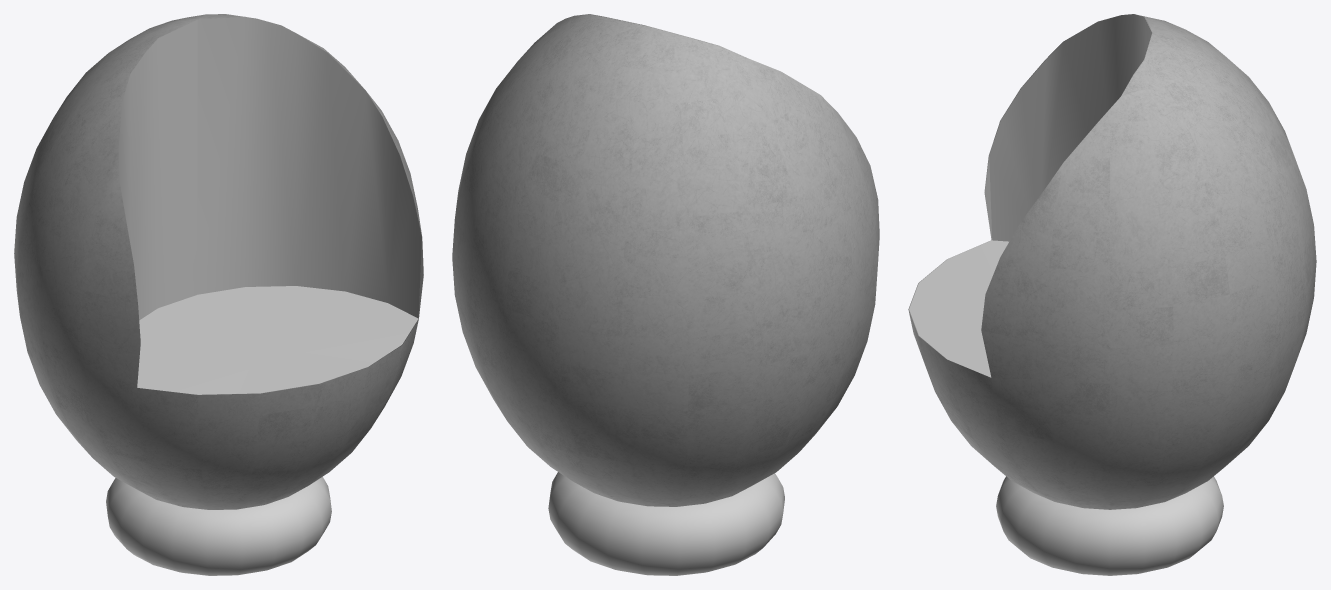
The model's file is chair.fbx.
The picture shows the model from 3 angles, left to right: view 1: azimuth 30°, elevation 25°; view 2: azimuth 150°, elevation 25°; view 3: azimuth 270°, elevation 25°; orthographic projection. The views are drawn at different scales.
Visible parts, largest first — view 1: chair_inside, chair_outside, chair_bottom; view 2: chair_outside, chair_bottom; view 3: chair_outside, chair_inside, chair_bottom.
Part boxes in pixels (bbox=[...]): chair_inside: bbox=[118, 16, 423, 394]; chair_outside: bbox=[14, 14, 423, 509]; chair_bottom: bbox=[106, 477, 331, 575]; chair_outside: bbox=[452, 14, 879, 506]; chair_bottom: bbox=[548, 472, 784, 575]; chair_outside: bbox=[908, 14, 1316, 509]; chair_inside: bbox=[909, 14, 1151, 377]; chair_bottom: bbox=[996, 476, 1223, 575].
Size of the model in its own units: 120 by 163 by 119.
